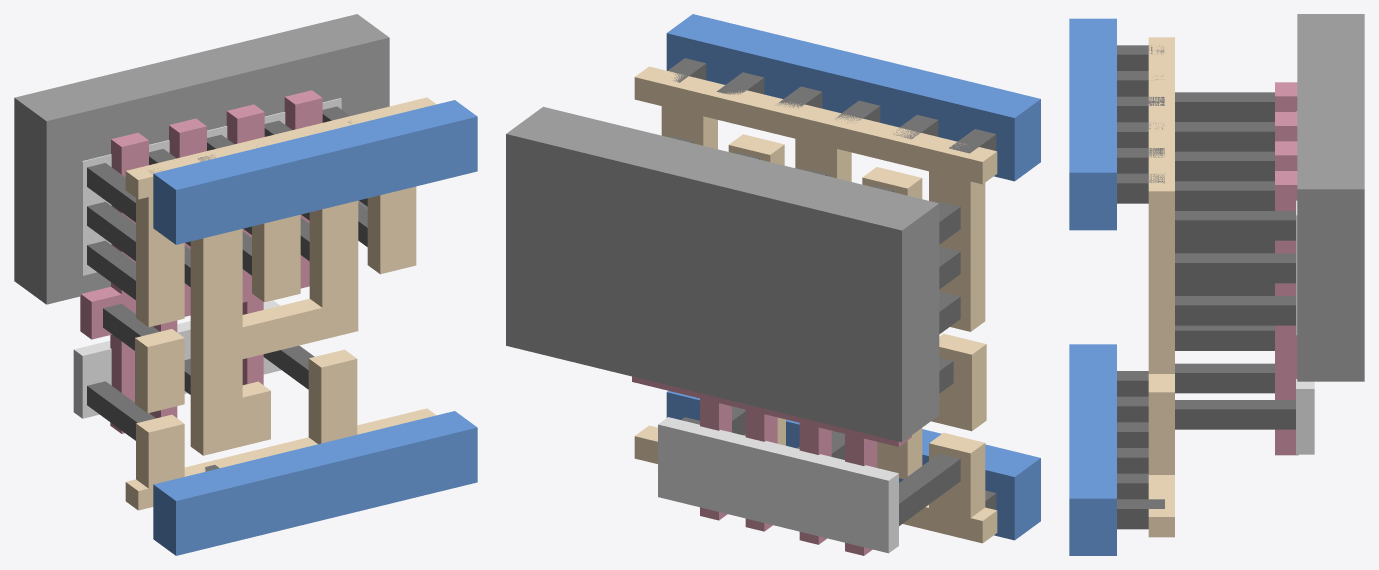
The model's file is sky130_fd_sc_hd__clkinvlp_4.gds.gltf.
3 renders of one model, left to right at view 1: azimuth 30°, elevation 25°; view 2: azimuth 150°, elevation 25°; view 3: azimuth 270°, elevation 25°, orthographic. The views are drawn at different scales.
Visible parts, largest first — view 1: sky130_fd_sc_hd__clkinvlp_4_li1, sky130_fd_sc_hd__clkinvlp_4_met1, sky130_fd_sc_hd__clkinvlp_4_nwell, sky130_fd_sc_hd__clkinvlp_4_licon, sky130_fd_sc_hd__clkinvlp_4_poly, sky130_fd_sc_hd__clkinvlp_4_diff; view 2: sky130_fd_sc_hd__clkinvlp_4_nwell, sky130_fd_sc_hd__clkinvlp_4_li1, sky130_fd_sc_hd__clkinvlp_4_met1, sky130_fd_sc_hd__clkinvlp_4_diff, sky130_fd_sc_hd__clkinvlp_4_licon, sky130_fd_sc_hd__clkinvlp_4_poly, sky130_fd_sc_hd__clkinvlp_4_mcon; view 3: sky130_fd_sc_hd__clkinvlp_4_licon, sky130_fd_sc_hd__clkinvlp_4_nwell, sky130_fd_sc_hd__clkinvlp_4_met1, sky130_fd_sc_hd__clkinvlp_4_li1, sky130_fd_sc_hd__clkinvlp_4_mcon, sky130_fd_sc_hd__clkinvlp_4_poly, sky130_fd_sc_hd__clkinvlp_4_diff.
Part boxes in pixels (box(x1,y1,x2,y2)): sky130_fd_sc_hd__clkinvlp_4_li1: box(125, 97, 436, 510); sky130_fd_sc_hd__clkinvlp_4_met1: box(153, 100, 477, 555); sky130_fd_sc_hd__clkinvlp_4_nwell: box(14, 14, 389, 304); sky130_fd_sc_hd__clkinvlp_4_licon: box(87, 106, 367, 440); sky130_fd_sc_hd__clkinvlp_4_poly: box(80, 90, 322, 433); sky130_fd_sc_hd__clkinvlp_4_diff: box(73, 98, 341, 418); sky130_fd_sc_hd__clkinvlp_4_nwell: box(506, 106, 939, 442); sky130_fd_sc_hd__clkinvlp_4_li1: box(634, 66, 997, 543); sky130_fd_sc_hd__clkinvlp_4_met1: box(666, 14, 1040, 540); sky130_fd_sc_hd__clkinvlp_4_diff: box(658, 417, 898, 553); sky130_fd_sc_hd__clkinvlp_4_licon: box(670, 136, 960, 525); sky130_fd_sc_hd__clkinvlp_4_poly: box(632, 376, 911, 555); sky130_fd_sc_hd__clkinvlp_4_mcon: box(668, 58, 996, 509); sky130_fd_sc_hd__clkinvlp_4_licon: box(1175, 92, 1295, 429); sky130_fd_sc_hd__clkinvlp_4_nwell: box(1297, 14, 1364, 381); sky130_fd_sc_hd__clkinvlp_4_met1: box(1069, 18, 1116, 555); sky130_fd_sc_hd__clkinvlp_4_li1: box(1148, 37, 1174, 537); sky130_fd_sc_hd__clkinvlp_4_mcon: box(1117, 45, 1164, 529); sky130_fd_sc_hd__clkinvlp_4_poly: box(1275, 82, 1298, 455); sky130_fd_sc_hd__clkinvlp_4_diff: box(1296, 111, 1314, 454).
Size of the model in its own units: 3.14 by 3.2 by 2.24.
